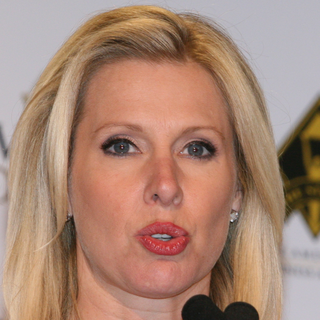eye: (96, 133, 143, 161), (176, 136, 221, 163)
